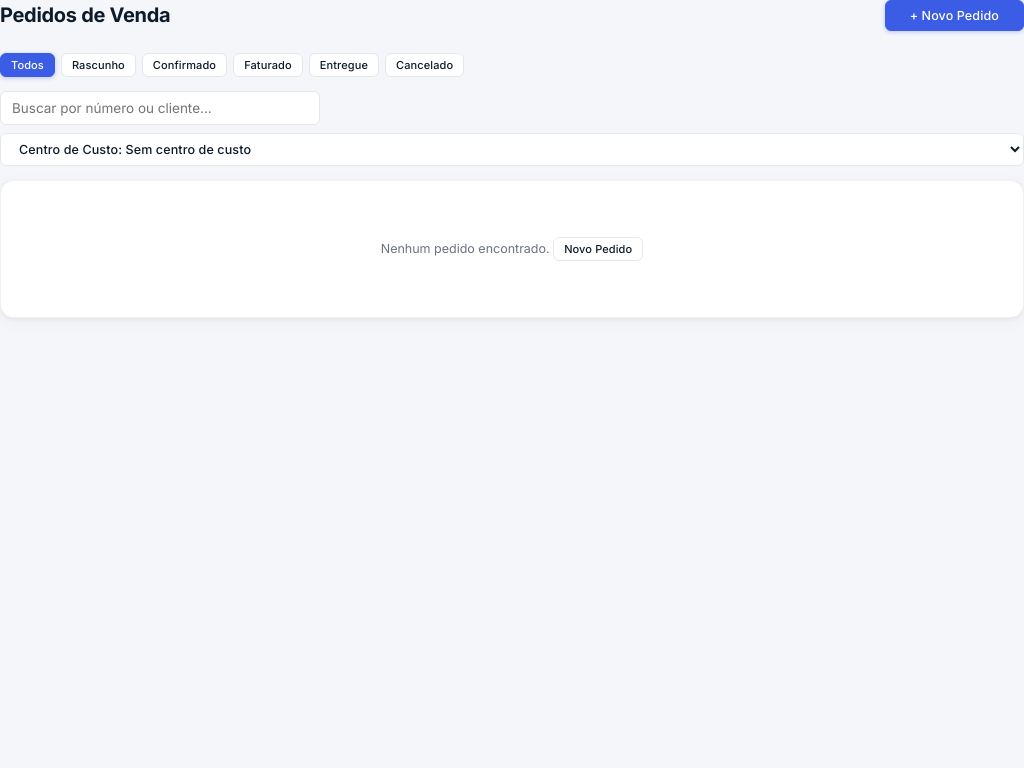
Test: OrdersPage — drawer / create form › opens drawer when clicking "Novo Pedido"
The width and height of the screenshot is (1024, 768).
Click the button "+ Novo Pedido": [954, 16] box top-left (885, 0), bottom-right (1023, 31)
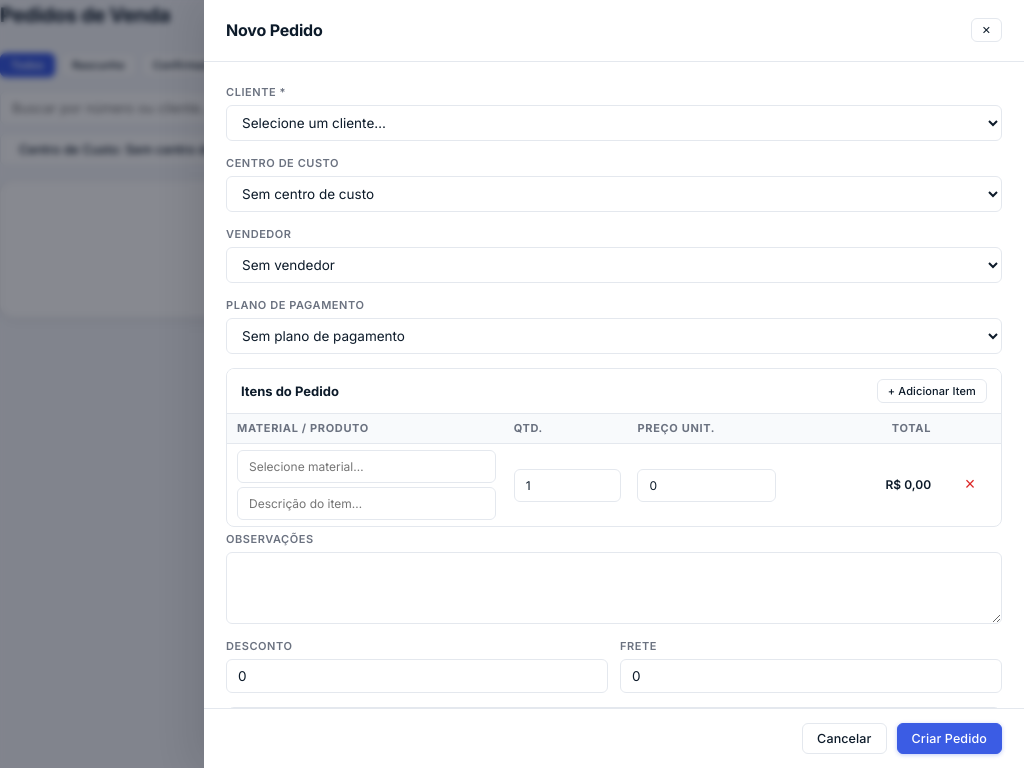
Check: the heading "Novo Pedido" is shown, box top-left (226, 18), bottom-right (322, 43)
